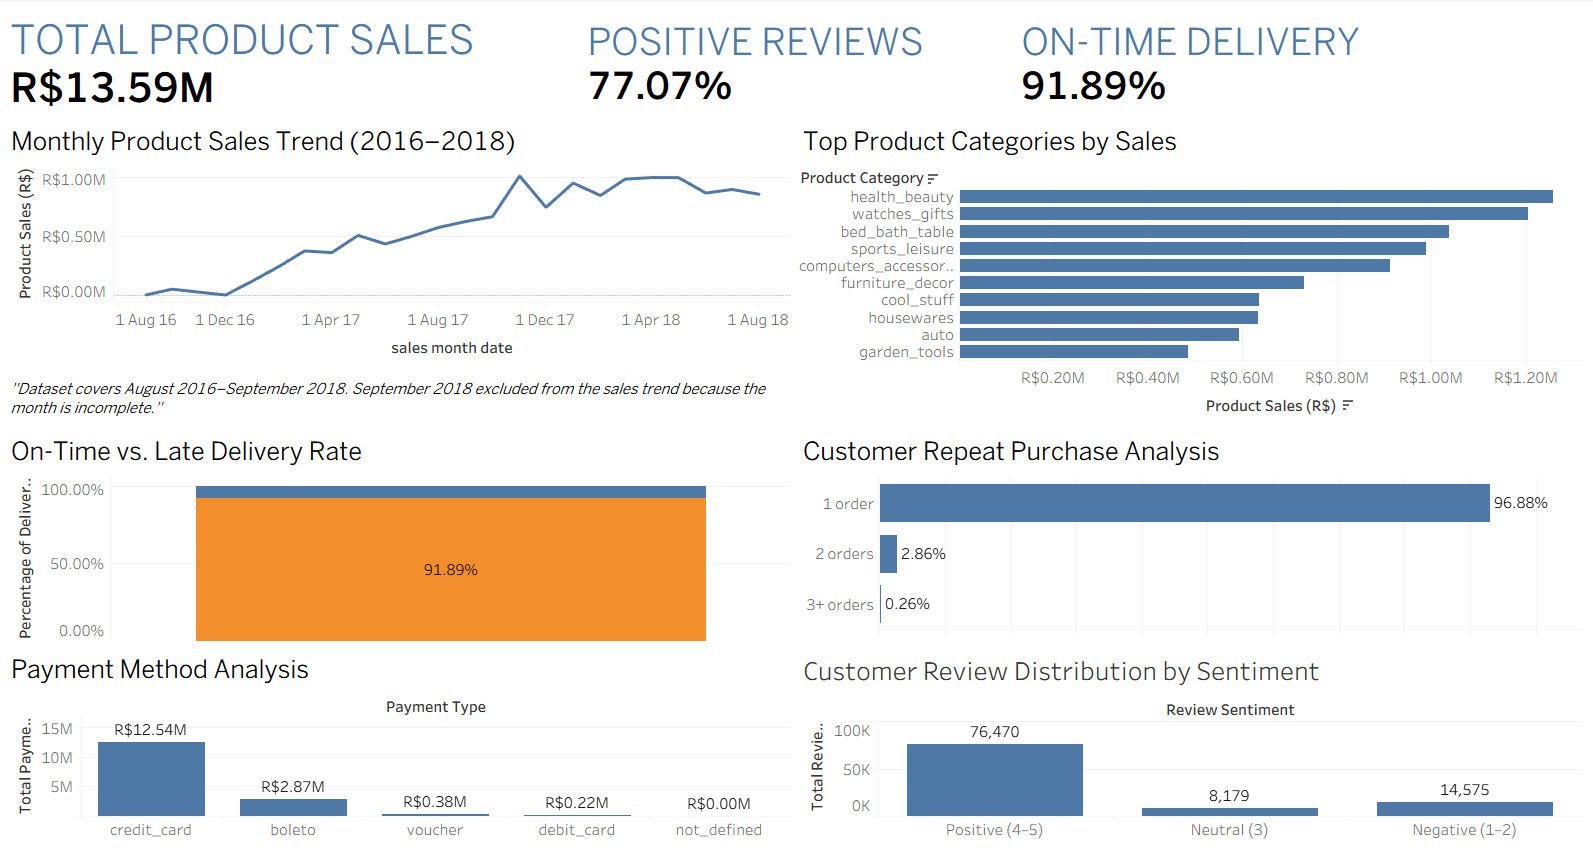

The dashboard page shown, as its layout file describes it:
{"tool":"tableau","page":{"name":"Dashboard 1","canvas":[1600,1200],"ordinal":0},"visuals":[{"type":"text","box":[8,8,577,137]},{"type":"text","box":[585,8,434,137]},{"type":"text","box":[1019,8,573,137]},{"type":"worksheet","title":"Monthly Sales Trend","mark":"Line","rows":["summed_product_sales"],"cols":["Calculation_1381871882493954"],"box":[8,145,792,362]},{"type":"worksheet","title":"Category performance","mark":"Bar","rows":["product_category"],"cols":["product_sales"],"box":[800,145,792,415]},{"type":"text","box":[8,507,792,53]},{"type":"worksheet","title":"Delivery Performance","mark":"Automatic","rows":["order_id"],"box":[8,560,792,344]},{"type":"worksheet","title":"Customer Repeat Purchase ","mark":"Automatic","rows":["customer_order_group"],"cols":["number_of_customers"],"box":[800,560,792,344]},{"type":"worksheet","title":"Revenue by Payment Method","mark":"Automatic","rows":["total_payment_value"],"cols":["payment_type"],"box":[8,904,792,288]},{"type":"worksheet","title":"Customer Review Distribution by Sentiment","mark":"Automatic","rows":["total_reviews"],"cols":["review_sentiment"],"box":[800,904,792,288]}]}

Visuals, with their boxes on the page's 1600x1200 design canvas (x1, y1, x2, y2). These are canvas units, not pixel positions in the 1593x850 screenshot, which may show the page scaled, cropped or inside an application window:
text: box(8, 8, 585, 145)
text: box(585, 8, 1019, 145)
text: box(1019, 8, 1592, 145)
"Monthly Sales Trend" worksheet (Line marks): box(8, 145, 800, 507)
"Category performance" worksheet (Bar marks): box(800, 145, 1592, 560)
text: box(8, 507, 800, 560)
"Delivery Performance" worksheet: box(8, 560, 800, 904)
"Customer Repeat Purchase " worksheet: box(800, 560, 1592, 904)
"Revenue by Payment Method" worksheet: box(8, 904, 800, 1192)
"Customer Review Distribution by Sentiment" worksheet: box(800, 904, 1592, 1192)
